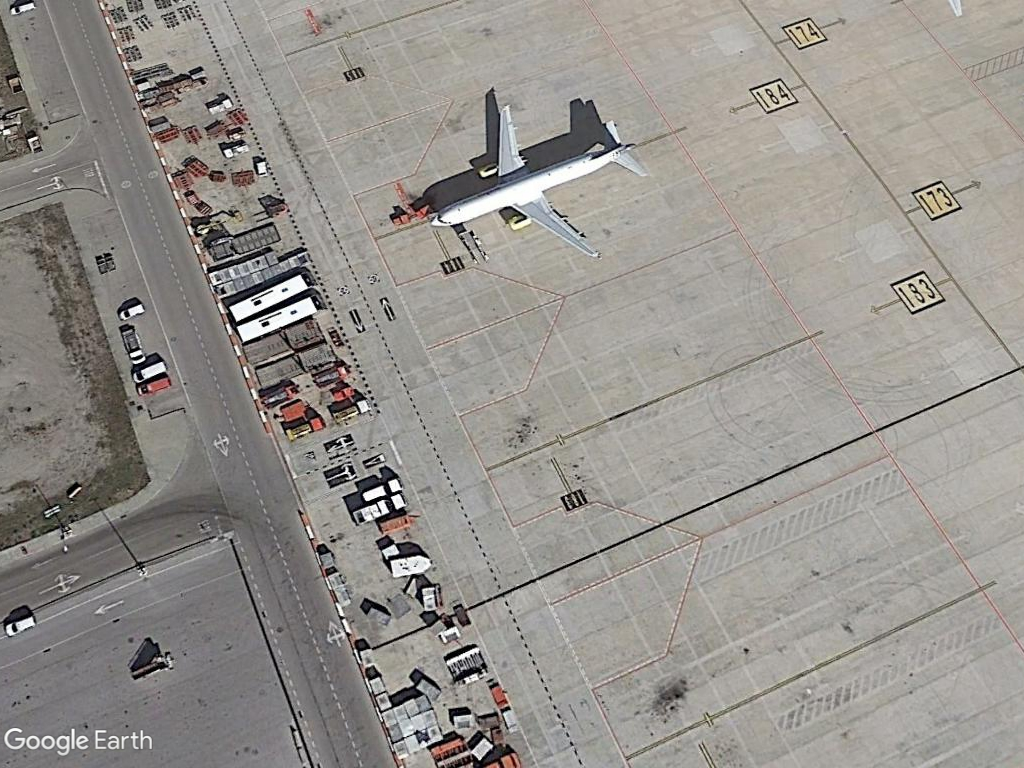airliner: (420, 105, 650, 262)
stairtruck: (124, 652, 180, 685)
